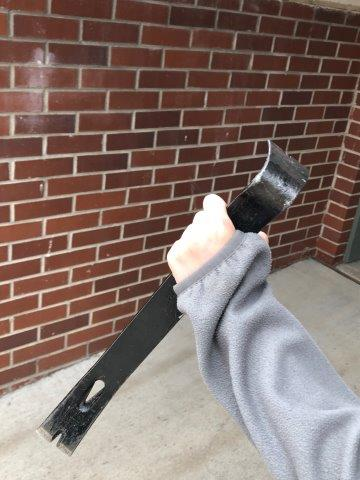crowbar: (48, 113, 300, 457)
